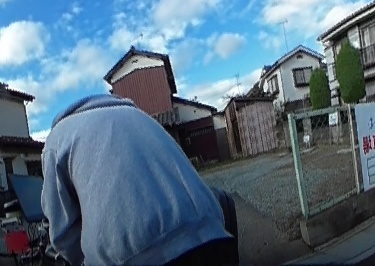person: (39, 91, 235, 266)
